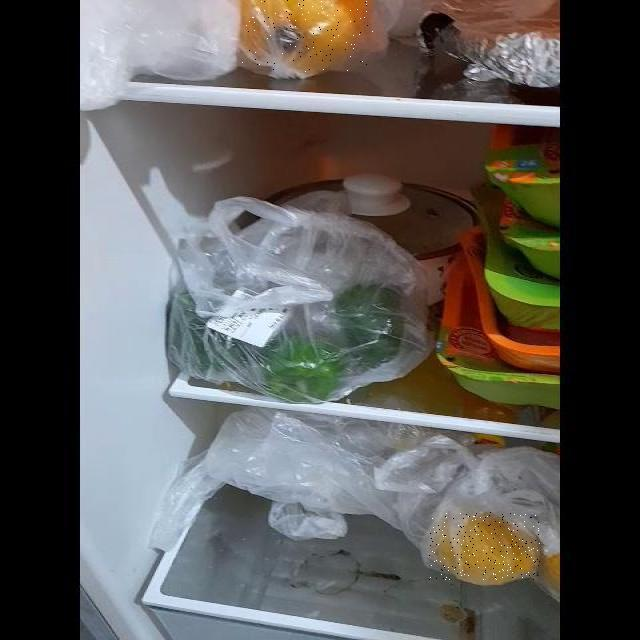lemon: (242, 0, 374, 72), (429, 512, 540, 580)
